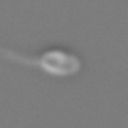normal: (1, 44, 42, 68)
